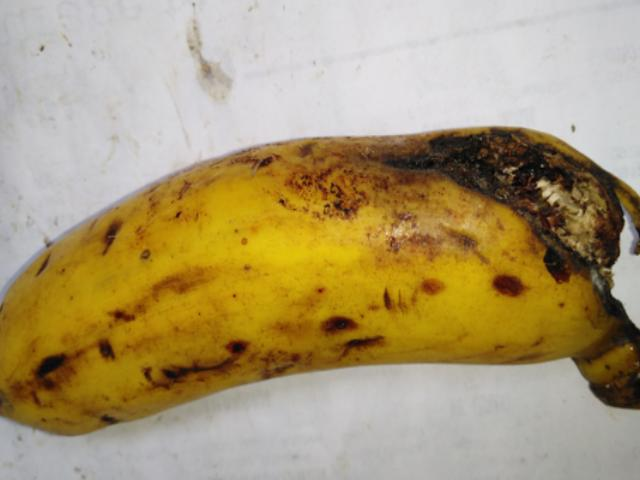ripe: (0, 113, 639, 466)
rotten: (367, 124, 626, 276)
